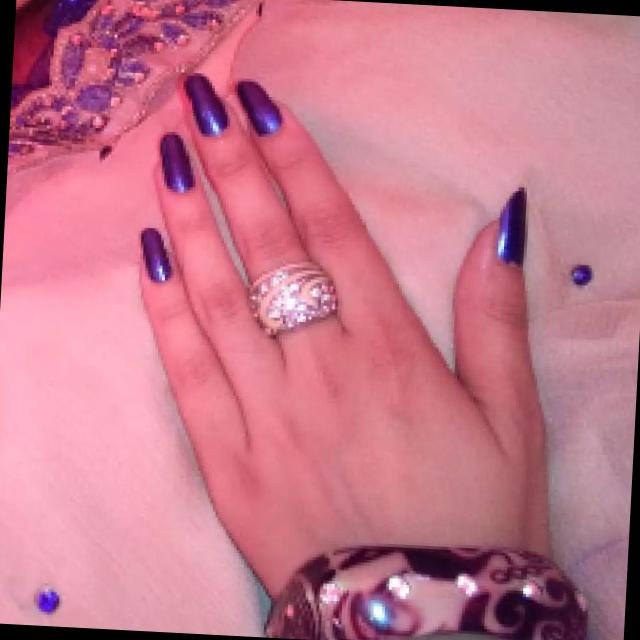Nail: (183, 73, 229, 136), (236, 81, 282, 136), (496, 188, 527, 266), (160, 133, 195, 192), (141, 228, 172, 282)
